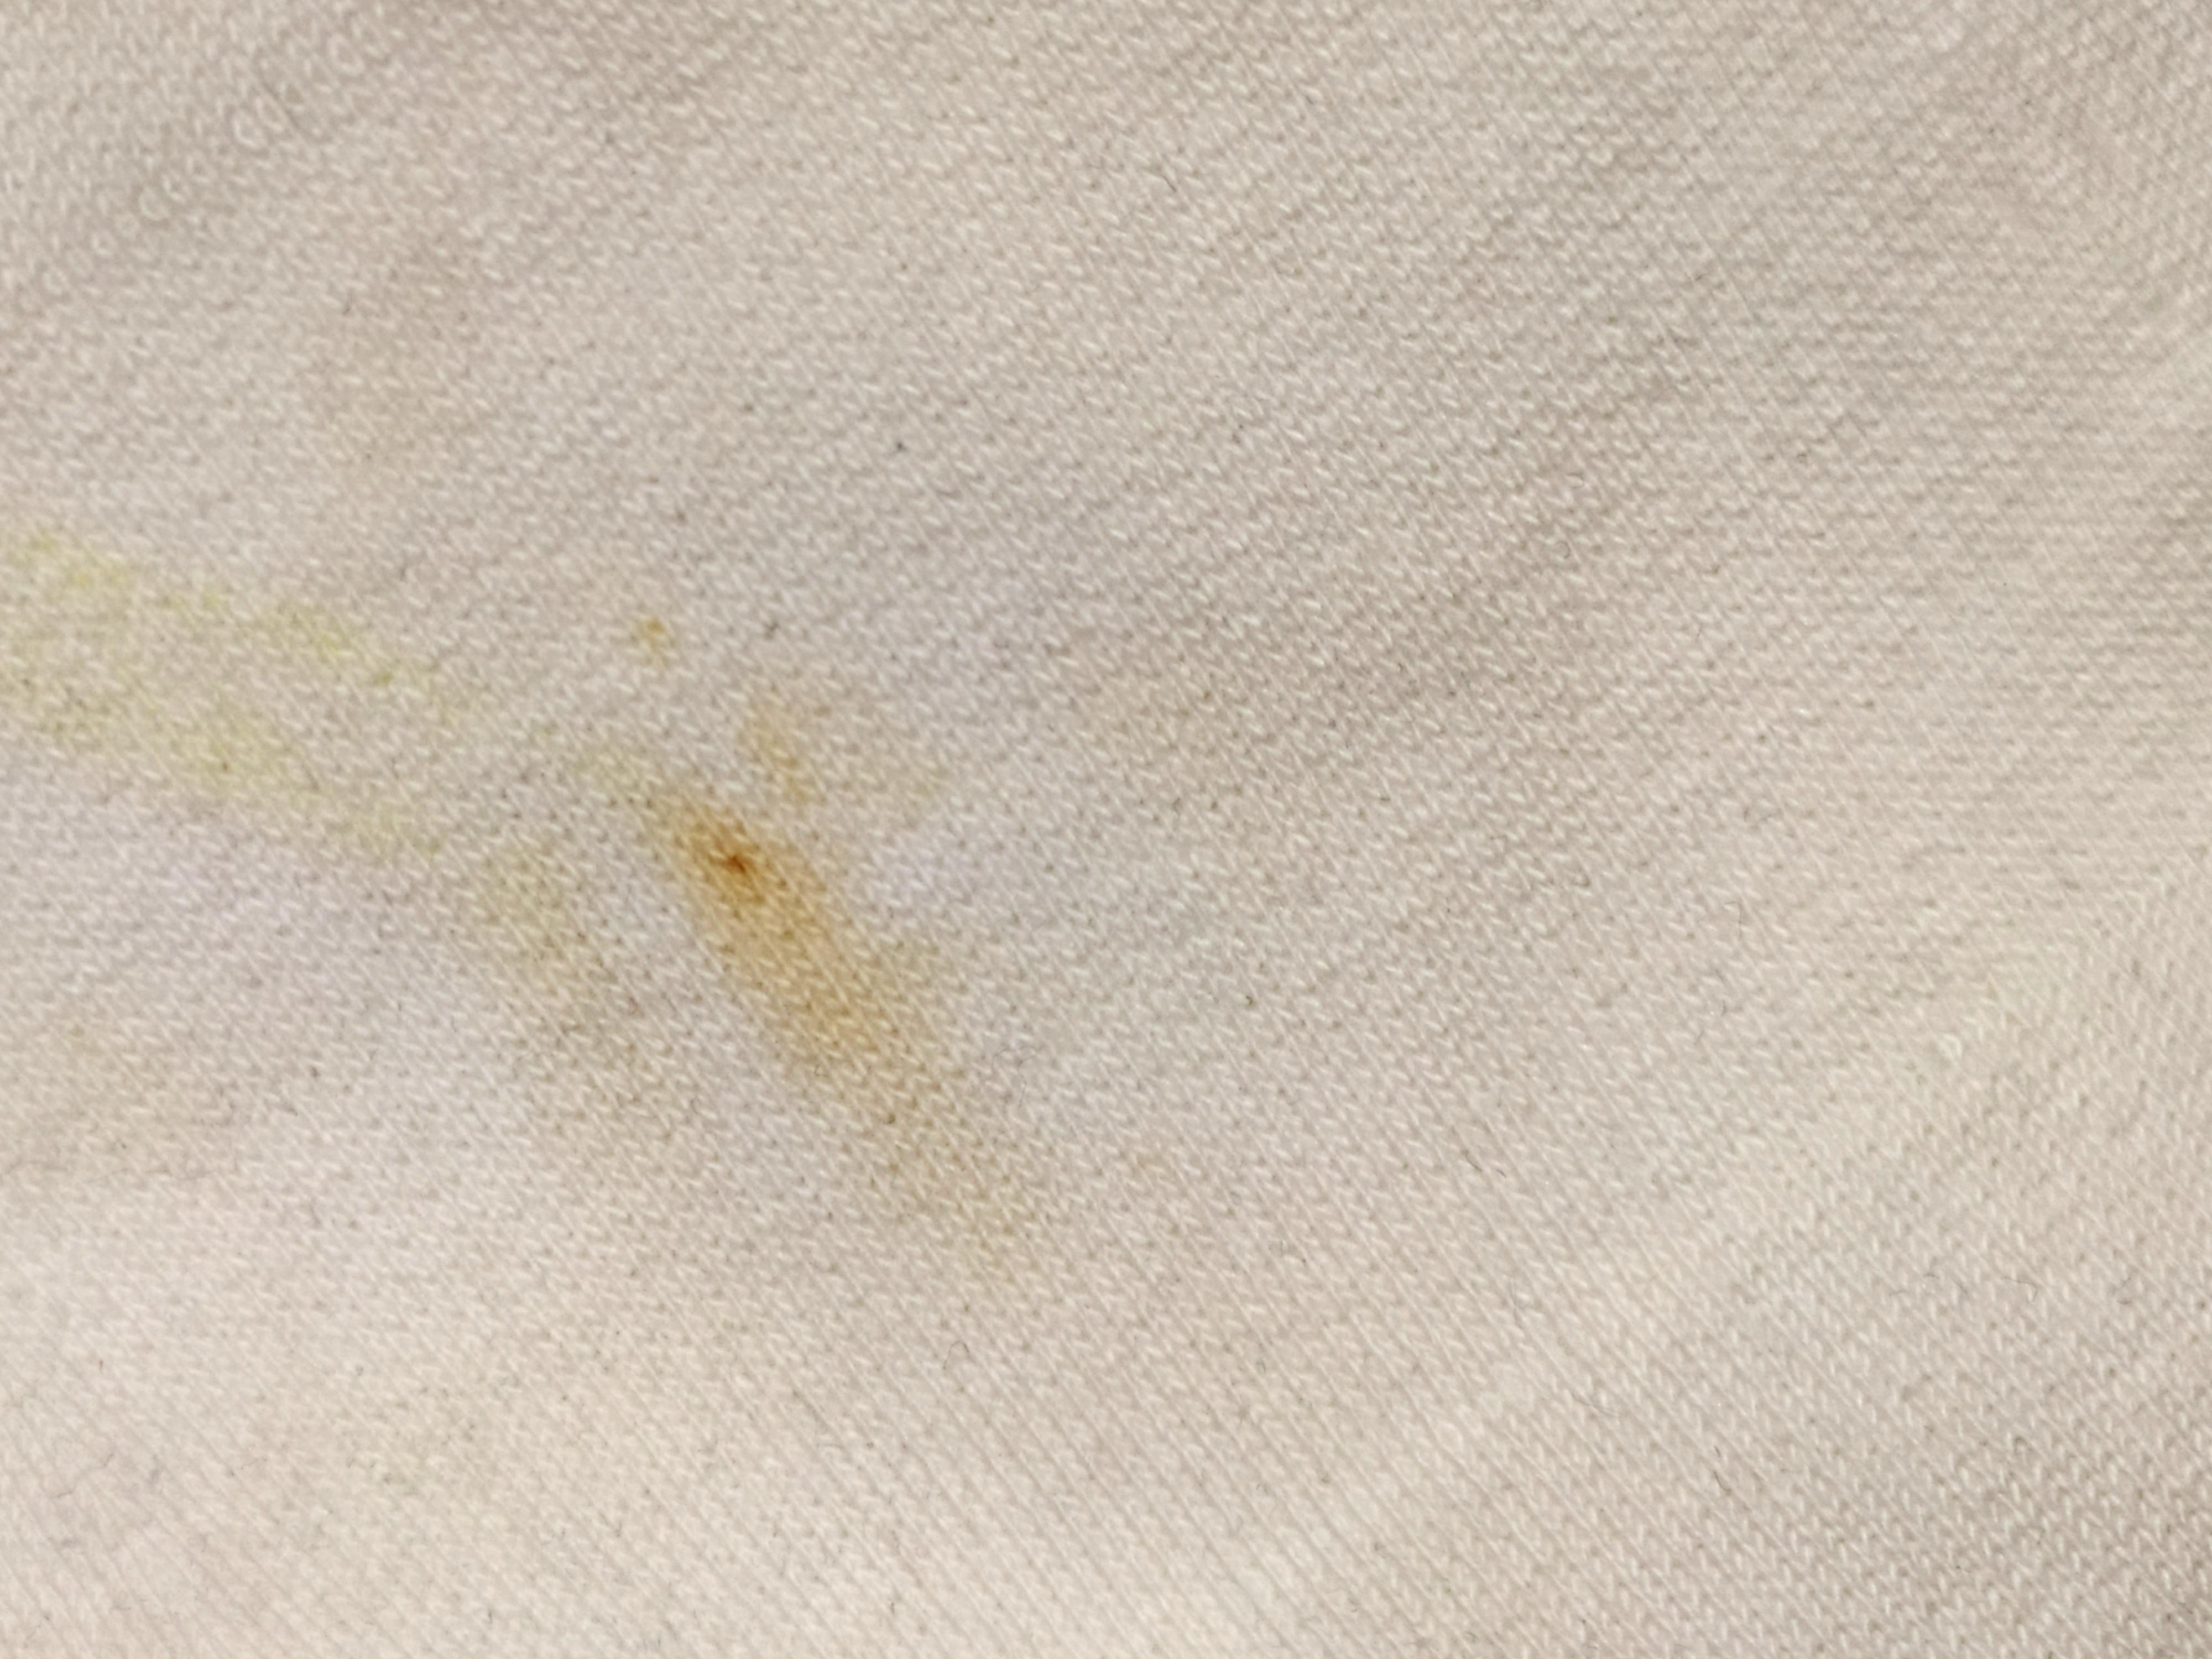stain: (664, 751, 866, 1080)
